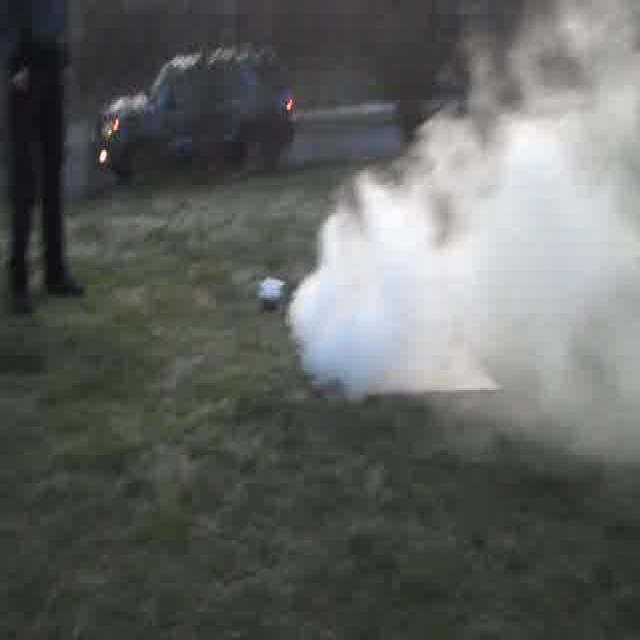Smoke: (311, 156, 622, 392)
